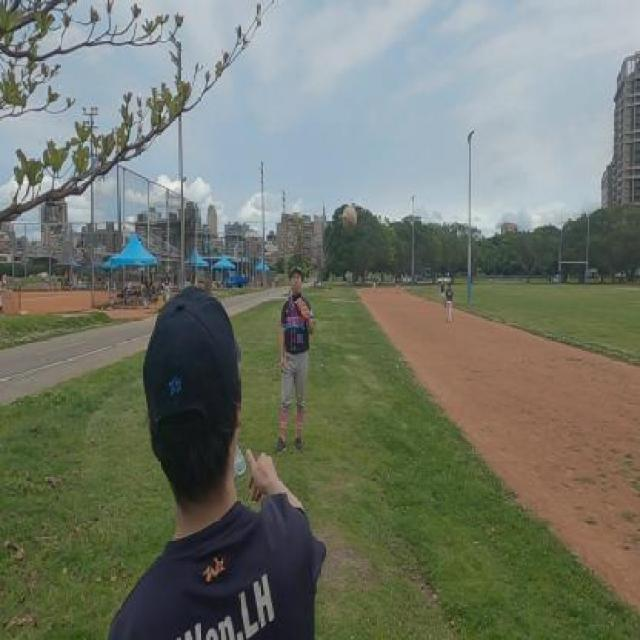ball: (342, 206, 358, 230)
